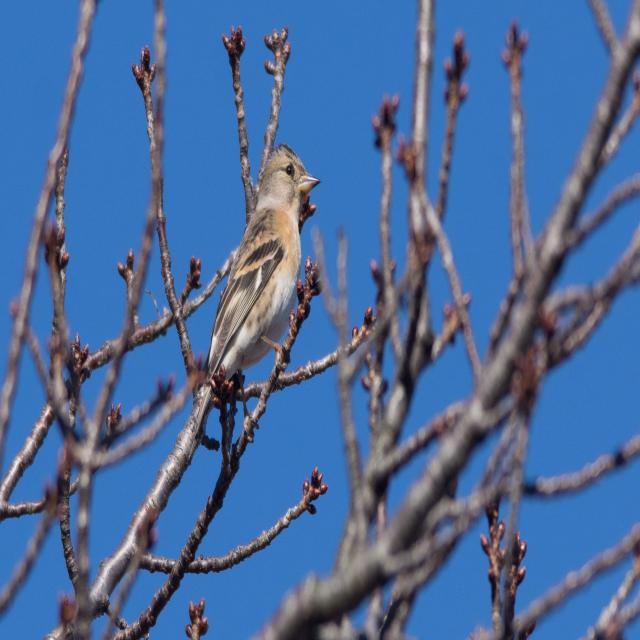bird: (212, 136, 320, 431)
